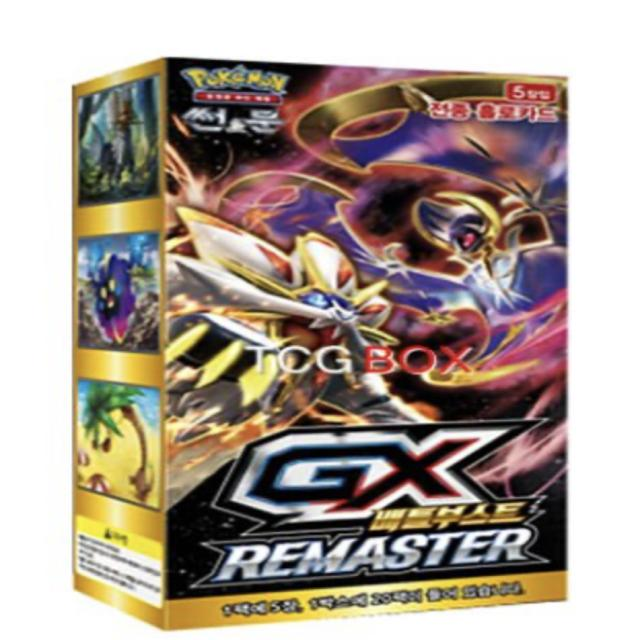biodegradable: (31, 23, 626, 637)
